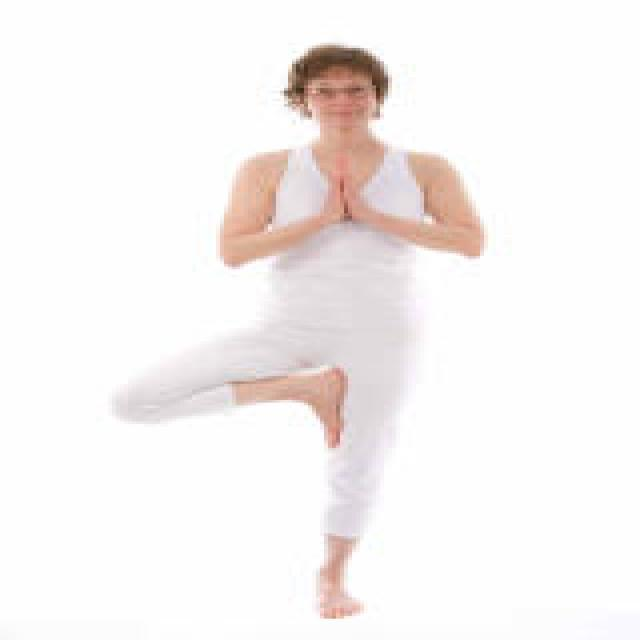yoga-pose tree: (114, 40, 490, 620)
